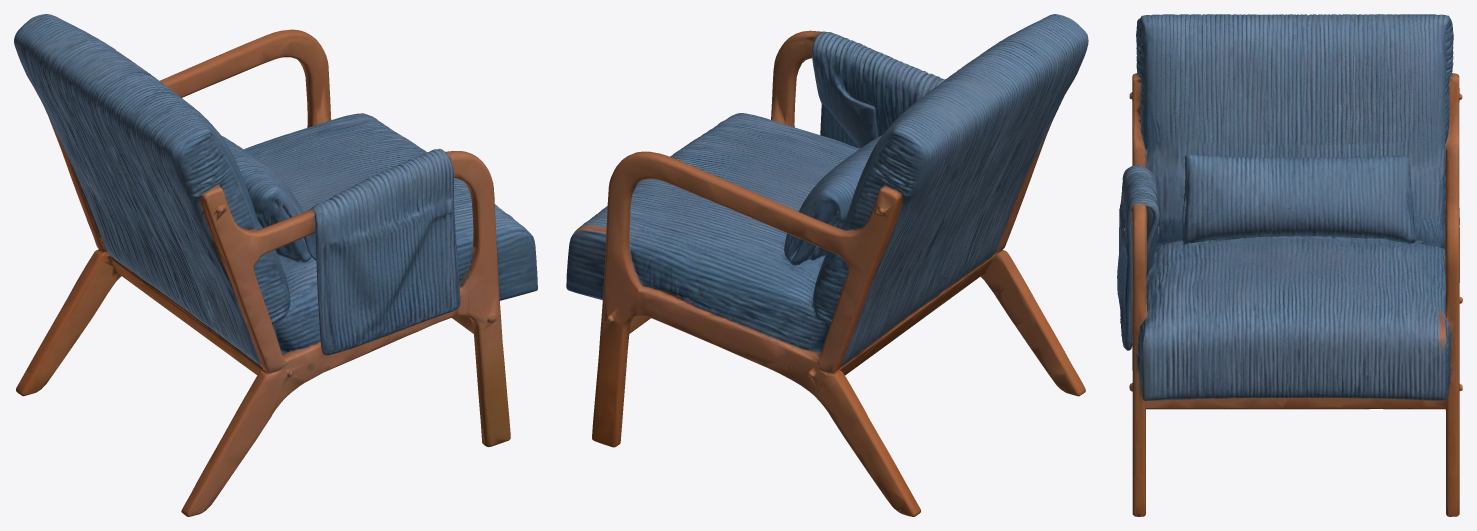
The model's file is B0GTZ6JFQ9.glb.
3 renders of one model, left to right at view 1: azimuth 30°, elevation 25°; view 2: azimuth 150°, elevation 25°; view 3: azimuth 270°, elevation 25°, orthographic. The views are drawn at different scales.
Parts seen in each view (by area): view 1: tripo_node_586640bf-a69c-4d0f-bed5-501c3a284067; view 2: tripo_node_586640bf-a69c-4d0f-bed5-501c3a284067; view 3: tripo_node_586640bf-a69c-4d0f-bed5-501c3a284067.
Boxes of the visible parts, <box> form: tripo_node_586640bf-a69c-4d0f-bed5-501c3a284067: <box>14,14,537,516</box>; tripo_node_586640bf-a69c-4d0f-bed5-501c3a284067: <box>566,14,1088,516</box>; tripo_node_586640bf-a69c-4d0f-bed5-501c3a284067: <box>1117,14,1462,516</box>.
Bounding box in the file's own units: 0.9999 × 0.9981 × 0.8633.
Materials: 1 (1 with a texture image).
